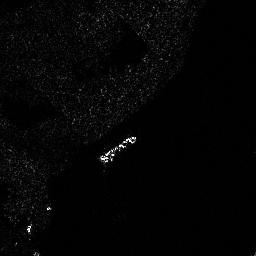ship: (99, 133, 138, 163)
